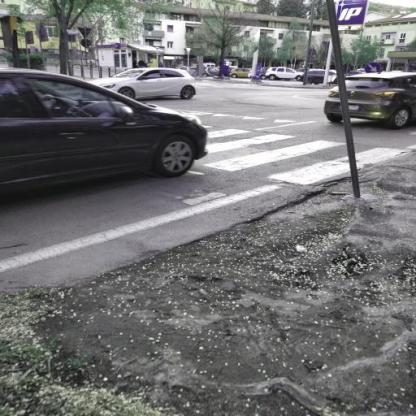crosswalk: (205, 123, 415, 198)
